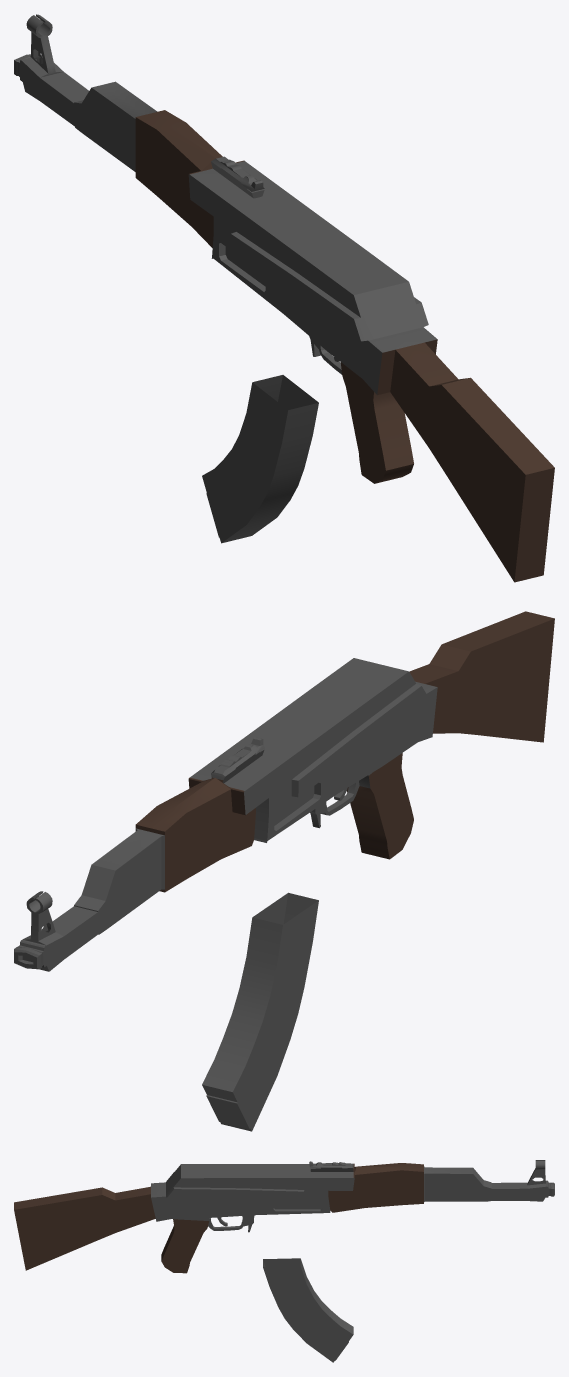
File: ak47_scaled.glb
3 renders of one model, top to bottom at view 1: azimuth 30°, elevation 25°; view 2: azimuth 150°, elevation 25°; view 3: azimuth 270°, elevation 25°, orthographic. The views are drawn at different scales.
Visible parts, largest first — view 1: Cube.001; view 2: Cube.001; view 3: Cube.001.
Part boxes in pixels (box(x1,y1,x2,y2)): Cube.001: box(14, 14, 554, 582); Cube.001: box(14, 611, 554, 1131); Cube.001: box(14, 1160, 554, 1362).
Size of the model in its own units: 17.47 by 93.01 by 230.
